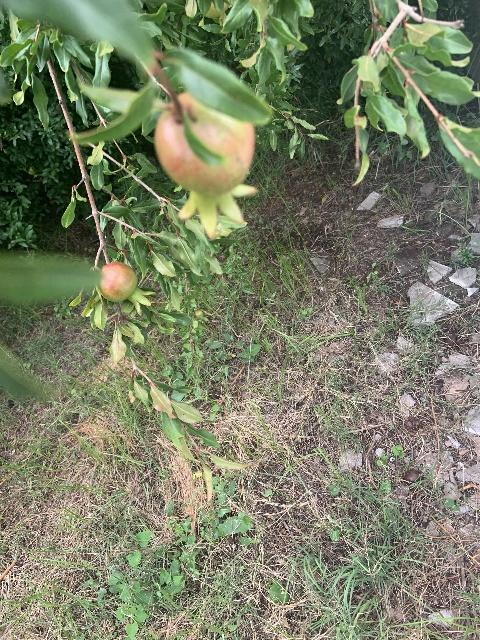early-fruit: (154, 92, 260, 240), (99, 261, 156, 315)
